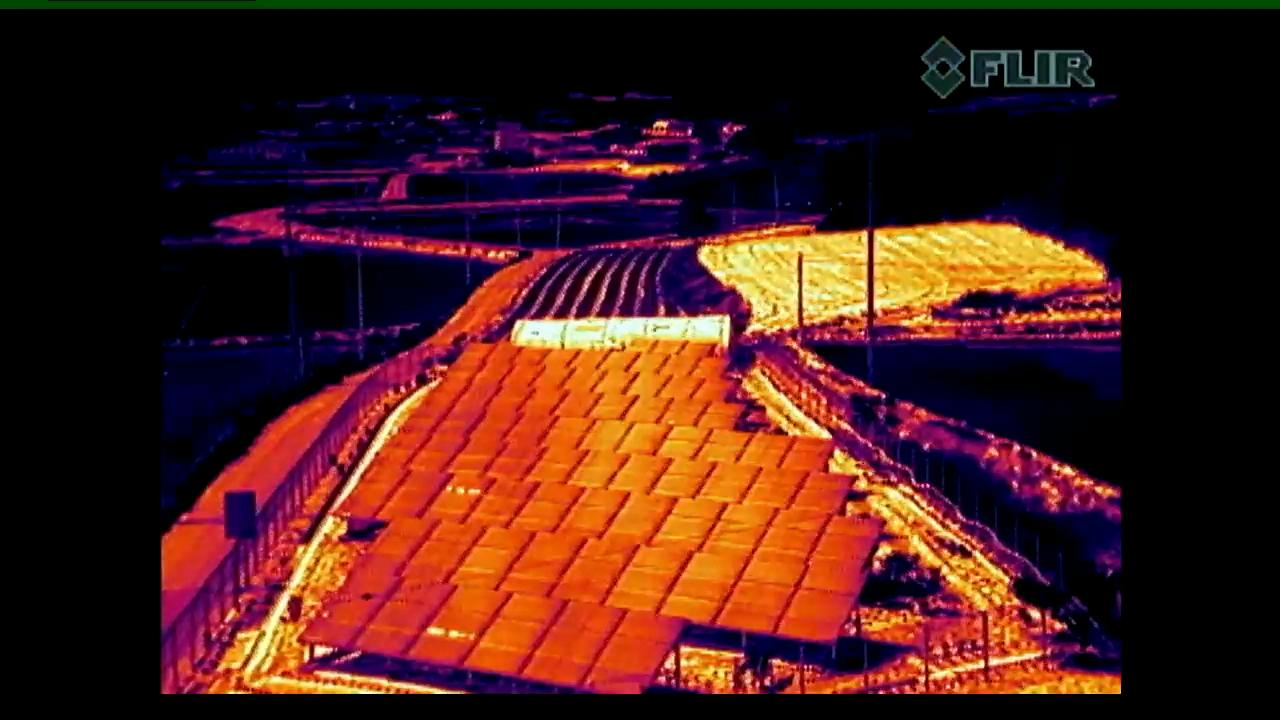hotspot: (412, 585, 512, 668), (419, 471, 489, 528), (653, 394, 707, 435)
